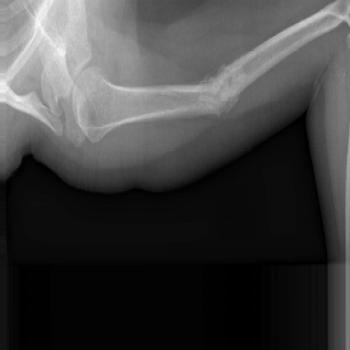Fracture: (197, 62, 241, 112)
